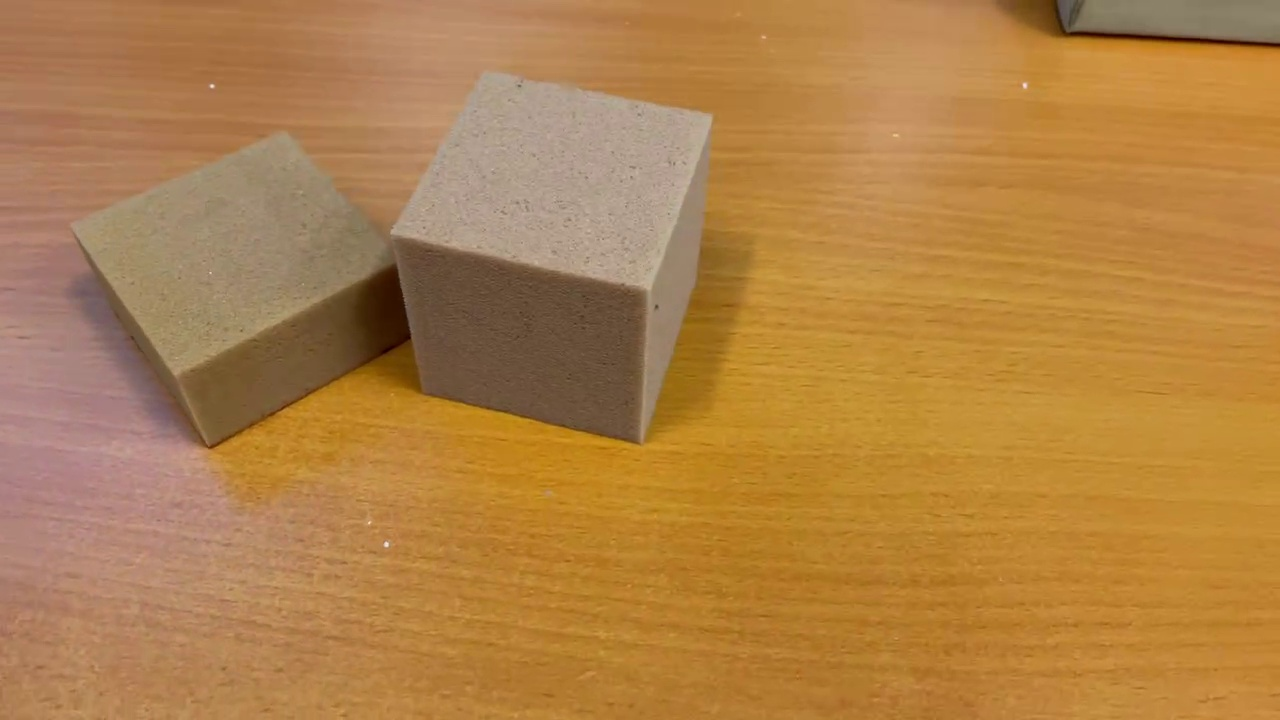Cube: (386, 64, 718, 451)
Cube_short: (64, 124, 410, 450)
